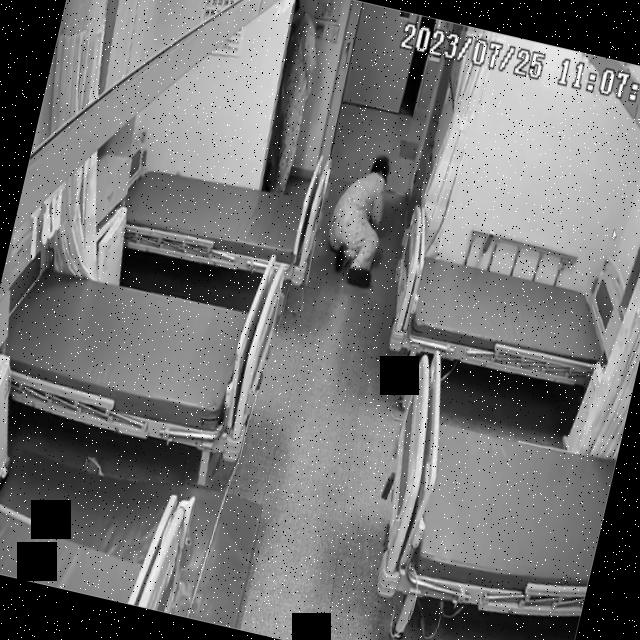bed: (362, 346, 630, 634), (0, 249, 279, 457), (378, 230, 632, 398), (117, 147, 323, 286)
fall: (314, 145, 409, 296)
patient: (255, 0, 334, 194), (310, 151, 408, 299)
stand: (253, 0, 333, 193)
